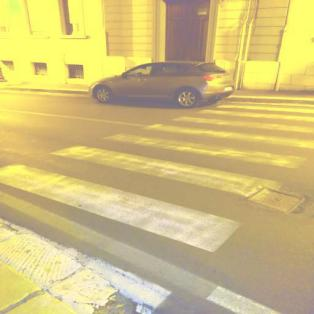Paso de Cebra: (43, 128, 310, 203)
